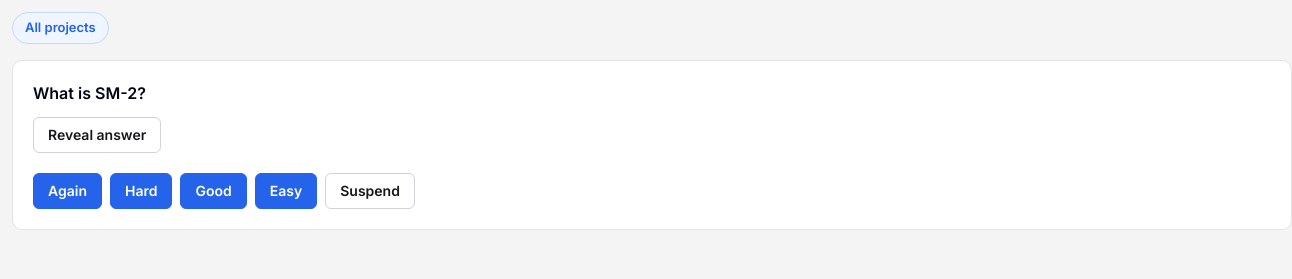
Test: ReviewRunner › keeps the card and shows an inline error when rating fails
The image size is (1292, 279).
expect the heading "What is SM-2?" is shown: met, box left=33, top=83, right=146, bottom=103
Click the button "Good".
click(214, 191)  # box left=180, top=173, right=247, bottom=209
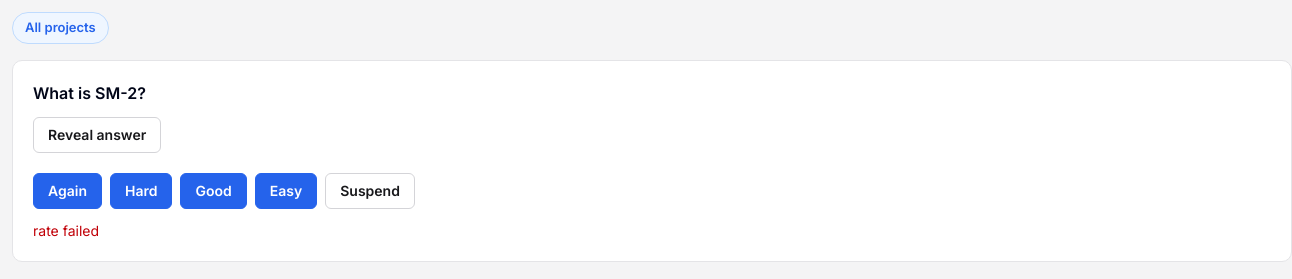
expect the heading "What is SM-2?" is shown: met, box left=33, top=83, right=146, bottom=103
expect the message reads "rate failed": met, box left=33, top=222, right=99, bottom=239
